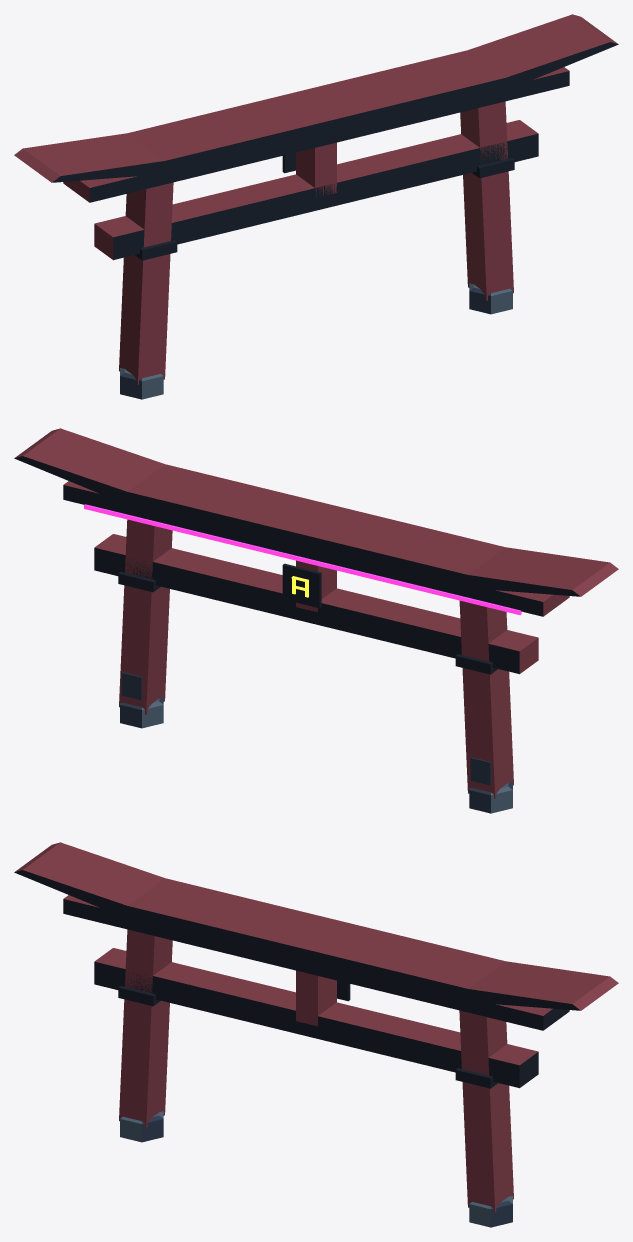
Rendered from prop-torii-1d5e5c9c.glb.
The picture shows the model from 3 angles, top to bottom: view 1: azimuth 30°, elevation 25°; view 2: azimuth 150°, elevation 25°; view 3: azimuth 330°, elevation 25°; orthographic projection.
Parts seen in each view (by area): view 1: prop-torii_body; view 2: prop-torii_body; view 3: prop-torii_body.
Part boxes in pixels (x1,y1,x2,y2): prop-torii_body: (14, 14, 618, 399); prop-torii_body: (14, 428, 618, 813); prop-torii_body: (14, 842, 618, 1227).
Bounding box in the file's own units: 26 × 11 × 3.
